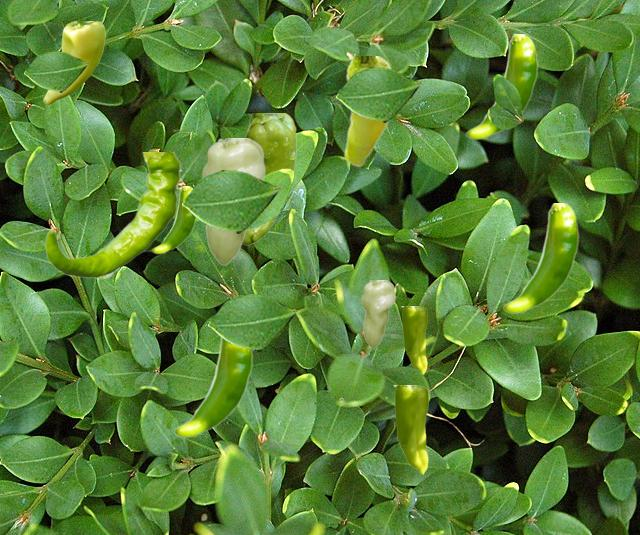green_chili: (45, 152, 180, 278), (502, 203, 578, 313), (201, 138, 264, 264), (173, 338, 252, 437), (465, 34, 537, 139), (243, 113, 295, 244), (343, 56, 393, 166), (43, 21, 104, 104), (151, 186, 196, 253), (393, 385, 427, 473), (360, 280, 394, 347), (401, 306, 426, 373)
